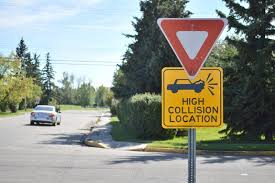yield: (154, 15, 230, 77)
